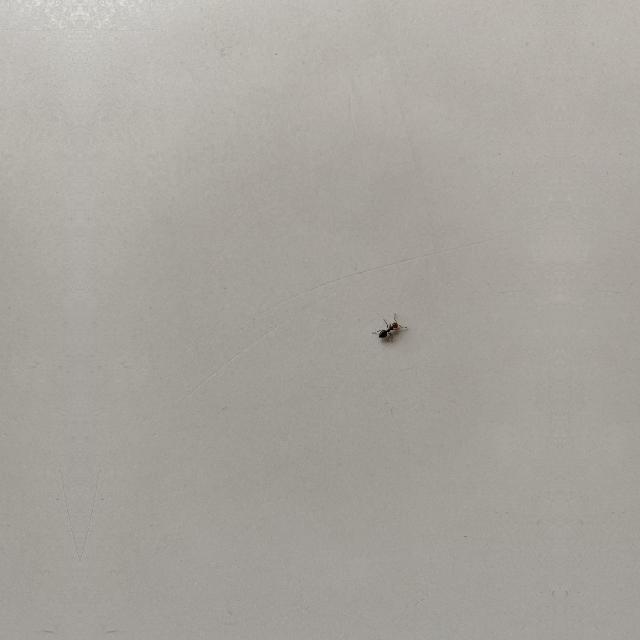Crematogaster: (378, 321, 402, 343)
